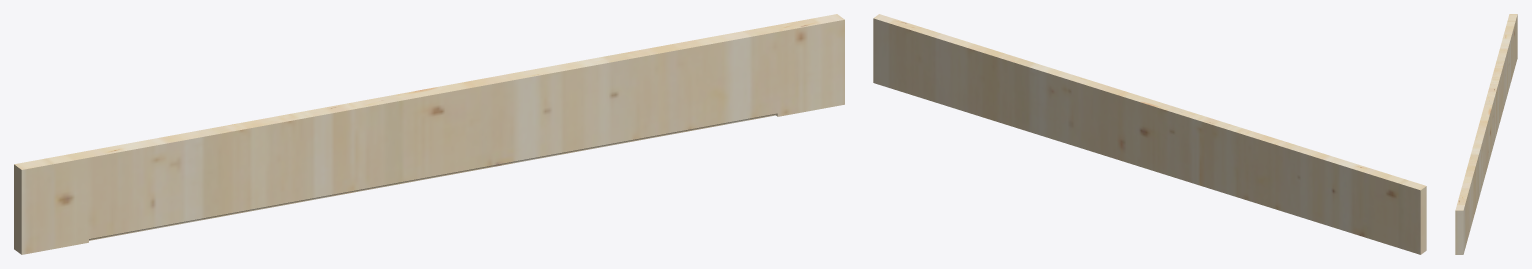
Rendered from BUILDING_OPERABLE_DESK.fbx.
The picture shows the model from 3 angles, left to right: view 1: azimuth 30°, elevation 25°; view 2: azimuth 150°, elevation 25°; view 3: azimuth 270°, elevation 25°; orthographic projection. The views are drawn at different scales.
Visible parts, largest first — view 1: closed; view 2: closed; view 3: closed.
Part boxes in pixels (x1,y1,x2,y2): closed: (14, 14, 844, 254); closed: (873, 14, 1426, 254); closed: (1455, 14, 1517, 254).
Bounding box in the file's own units: 19 × 2.54 × 2.
Materials: 1 (1 with a texture image).
